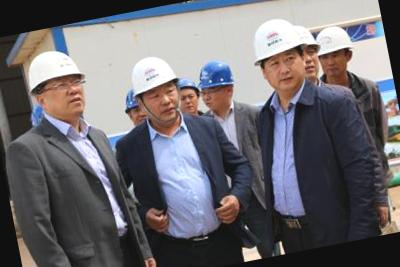no_helmet: (174, 74, 204, 115)
